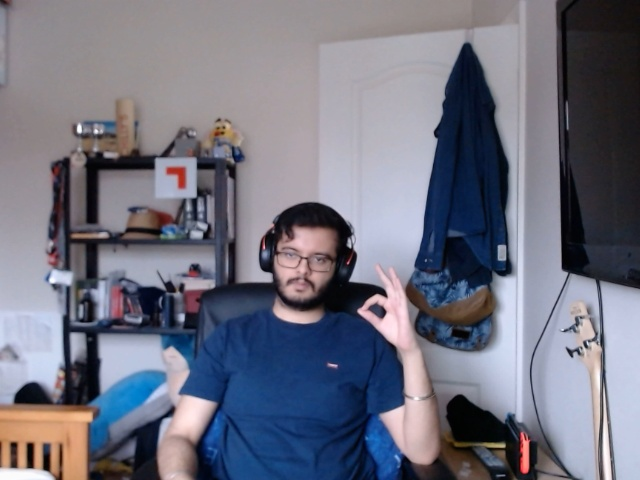Okay: (353, 258, 445, 353)
